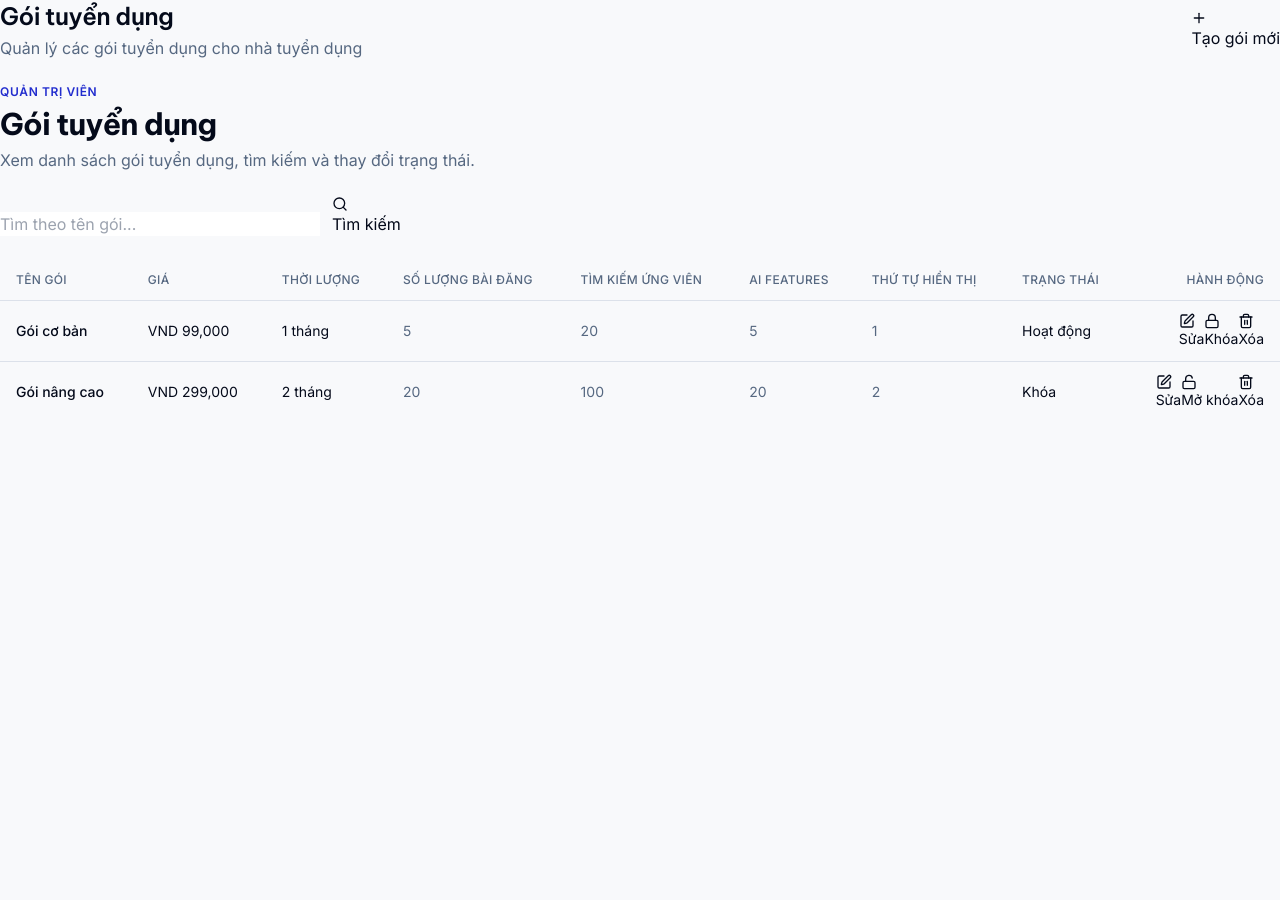
AdminPlansPage › cancel closes Create modal
# Open create modal
Click the button with aria-label "tạo gói tuyển dụng mới". click: {"x": 1236, "y": 30}
box: top-left (1191, 10), bottom-right (1279, 50)
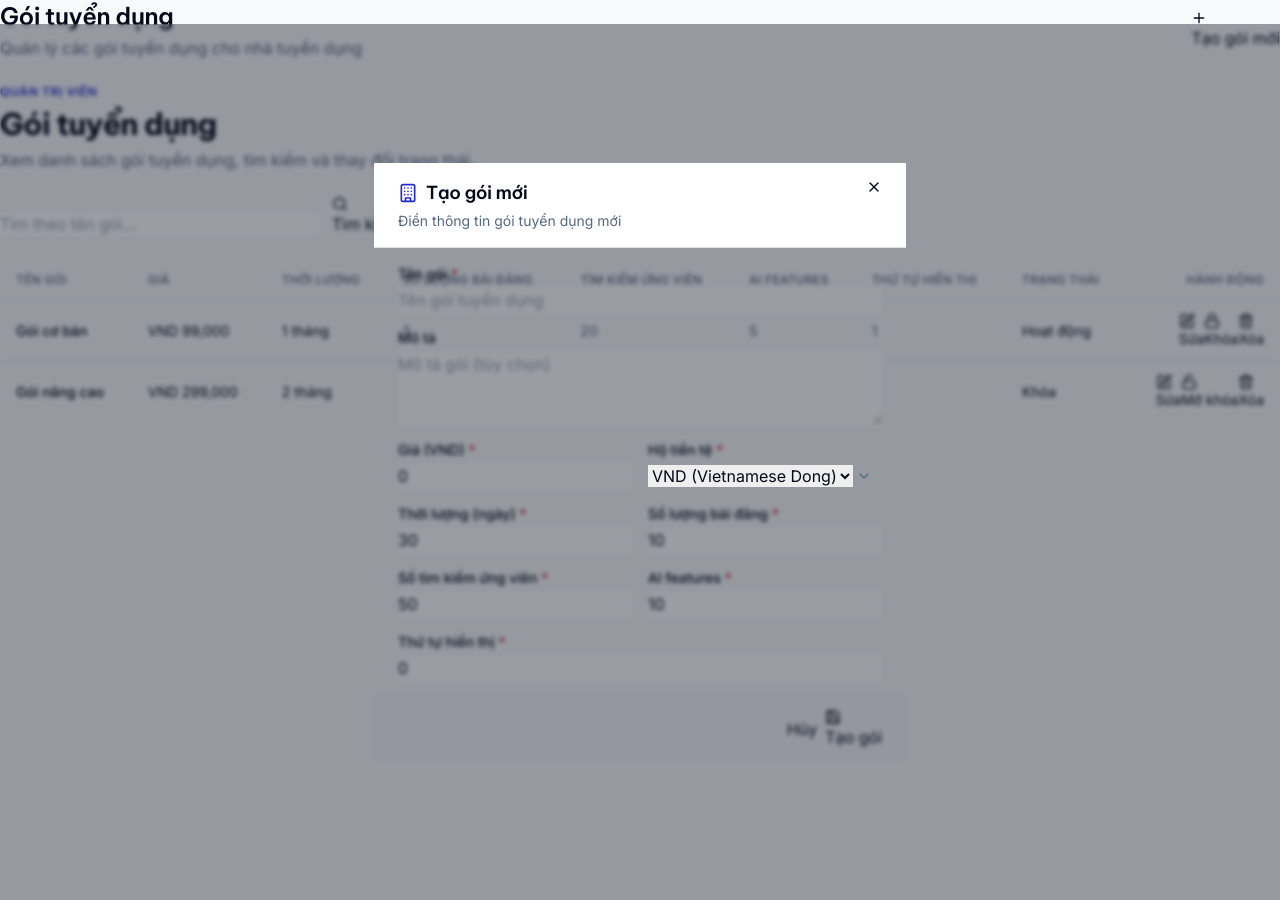
Expected: the dialog is shown
# Click cancel (Đóng)
Click the button named "đóng". click: {"x": 874, "y": 187}
box: top-left (866, 179), bottom-right (882, 195)
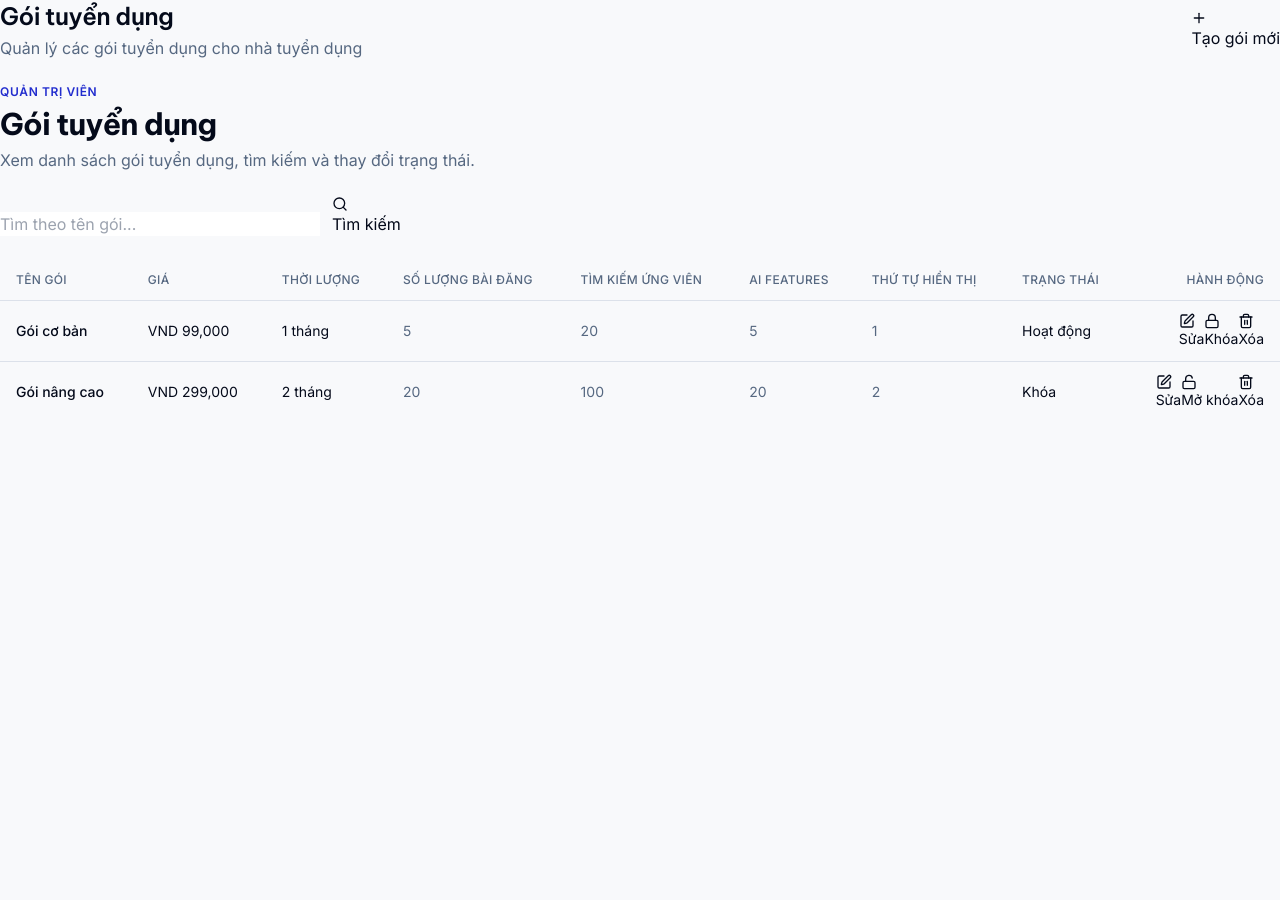
Expected: the dialog is gone
